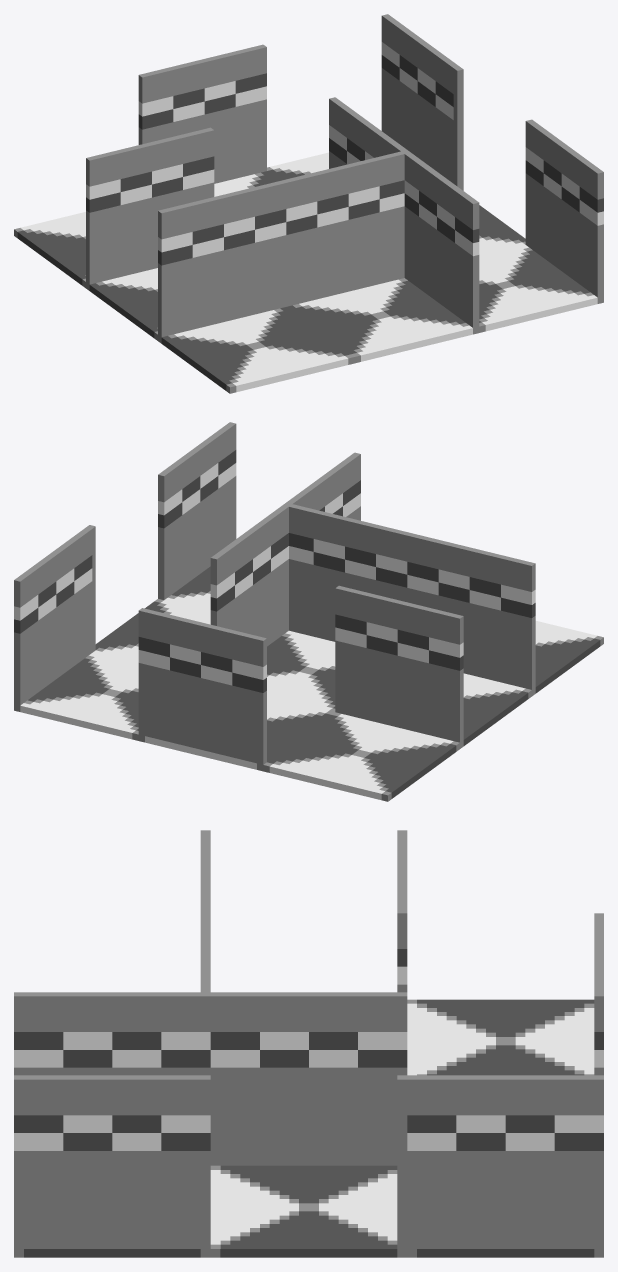
Rendered from level_maze-10.obj.
3 views of the same model, one above another, from view 1: azimuth 30°, elevation 25°; view 2: azimuth 150°, elevation 25°; view 3: azimuth 270°, elevation 25° (orthographic). The views are drawn at different scales.
Visible parts, largest first — view 1: level_maze-10; view 2: level_maze-10; view 3: level_maze-10.
Part boxes in pixels (x1=…): level_maze-10: x1=14, y1=14, x2=603, y2=393; level_maze-10: x1=14, y1=422, x2=603, y2=801; level_maze-10: x1=14, y1=830, x2=603, y2=1257.
Bounding box in the file's own units: 60 × 20 × 60.
1 material, 1 textured.
